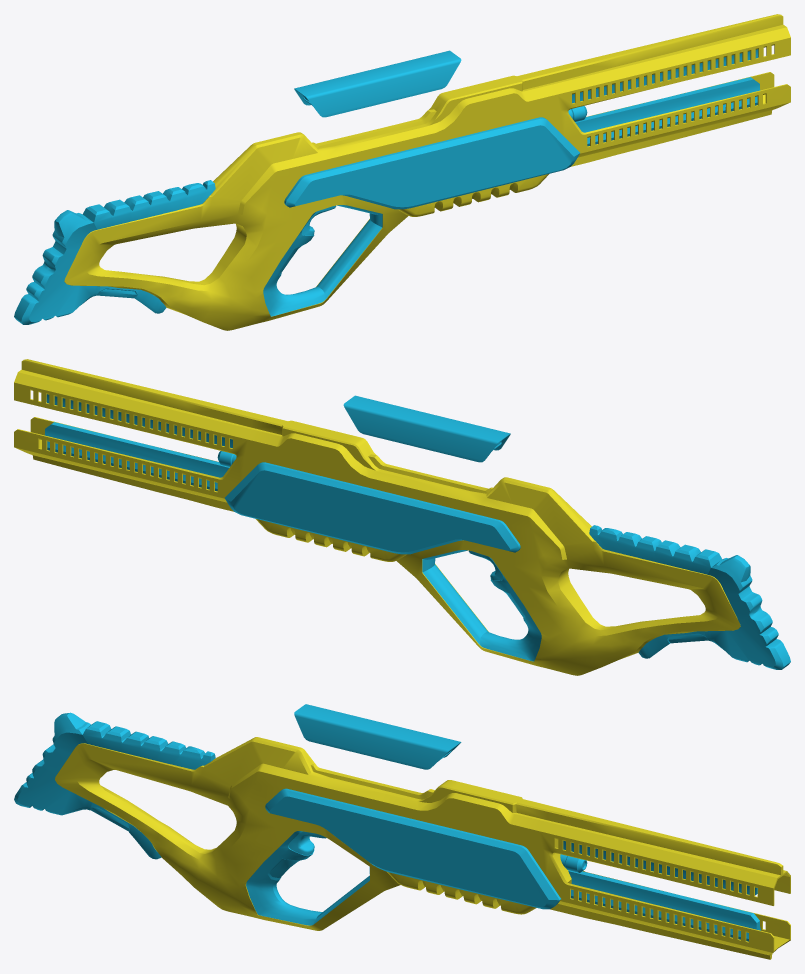
File: laser v2.fbx
3 renders of one model, top to bottom at view 1: azimuth 30°, elevation 25°; view 2: azimuth 150°, elevation 25°; view 3: azimuth 330°, elevation 25°, orthographic.
Visible parts, largest first — view 1: rail_uv4.001; view 2: rail_uv4.001; view 3: rail_uv4.001.
Boxes of the visible parts, left/top/right/bottom form: rail_uv4.001: left=14, top=14, right=790, bottom=330; rail_uv4.001: left=14, top=359, right=790, bottom=675; rail_uv4.001: left=14, top=704, right=790, bottom=959.
Size of the model in its own units: 301 by 82.37 by 17.32.
